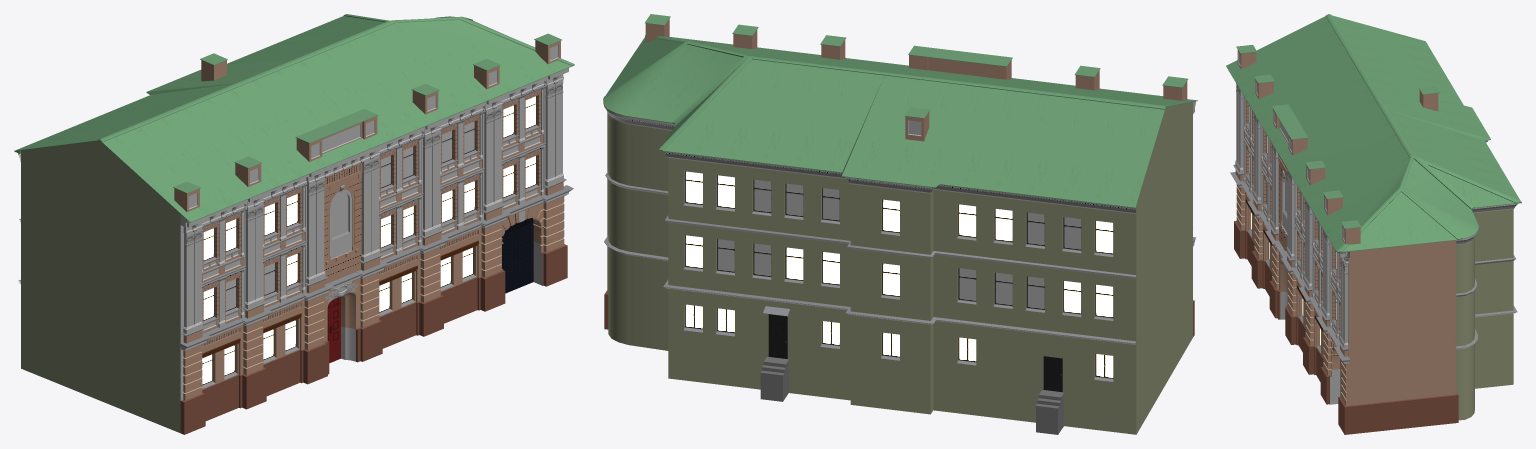
File: houseForStreet10.FBX
3 renders of one model, left to right at view 1: azimuth 30°, elevation 25°; view 2: azimuth 150°, elevation 25°; view 3: azimuth 270°, elevation 25°, orthographic. The views are drawn at different scales.
Parts seen in each view (by area): view 1: 01080-50@35375; view 2: 01080-50@35375; view 3: 01080-50@35375.
Part boxes in pixels (bbox=[...]): 01080-50@35375: bbox=[14, 14, 574, 434]; 01080-50@35375: bbox=[603, 14, 1197, 434]; 01080-50@35375: bbox=[1226, 14, 1521, 434].
Bounding box in the file's own units: 34.88 × 17.09 × 20.56.
1 material, 1 textured.
